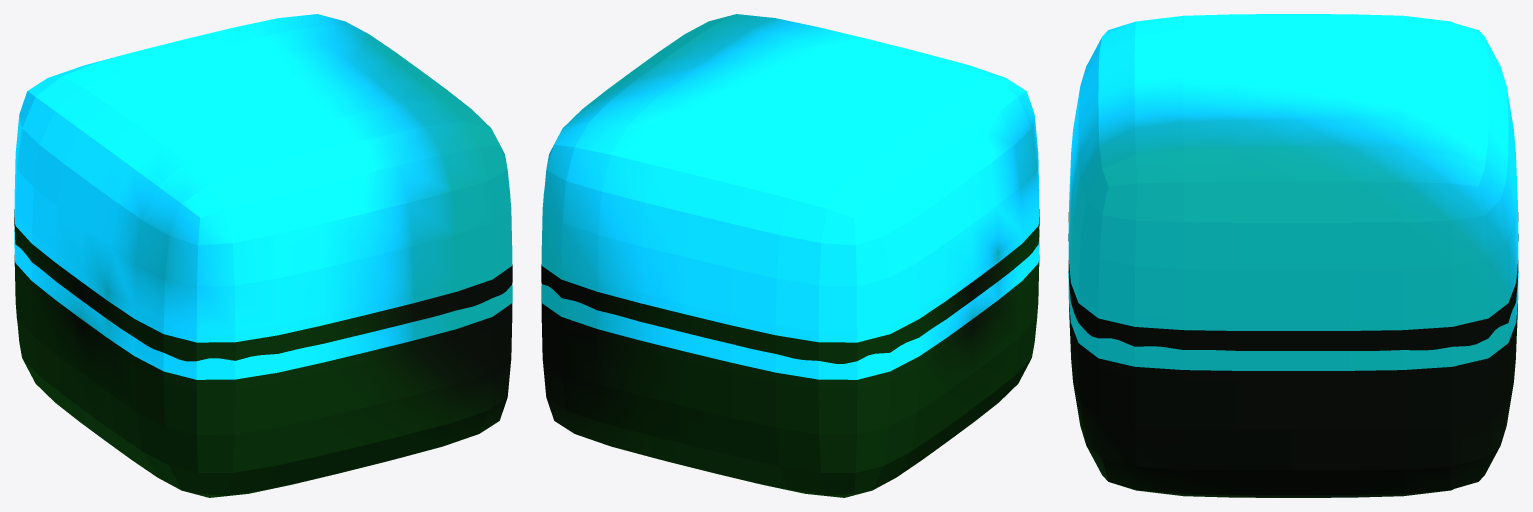
The model's file is sky_ground3.glb.
The picture shows the model from 3 angles, left to right: view 1: azimuth 30°, elevation 25°; view 2: azimuth 150°, elevation 25°; view 3: azimuth 270°, elevation 25°; orthographic projection. The views are drawn at different scales.
Parts seen in each view (by area): view 1: sky, trees; view 2: sky, trees; view 3: sky, trees.
Boxes of the visible parts, x1=… form: sky: x1=14, y1=14, x2=512, y2=379; trees: x1=14, y1=209, x2=512, y2=497; sky: x1=541, y1=14, x2=1039, y2=379; trees: x1=541, y1=209, x2=1039, y2=497; sky: x1=1068, y1=14, x2=1518, y2=370; trees: x1=1068, y1=212, x2=1518, y2=497.
Size of the model in its own units: 215 by 194 by 215.
